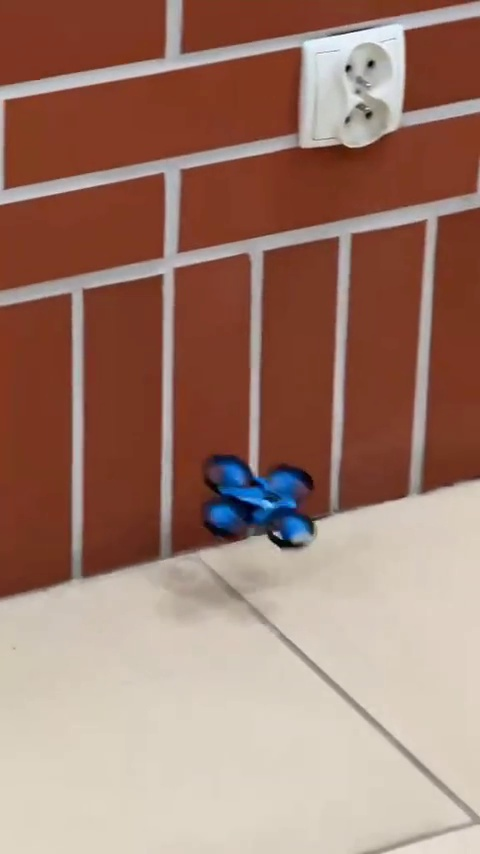drone: (203, 451, 328, 559)
